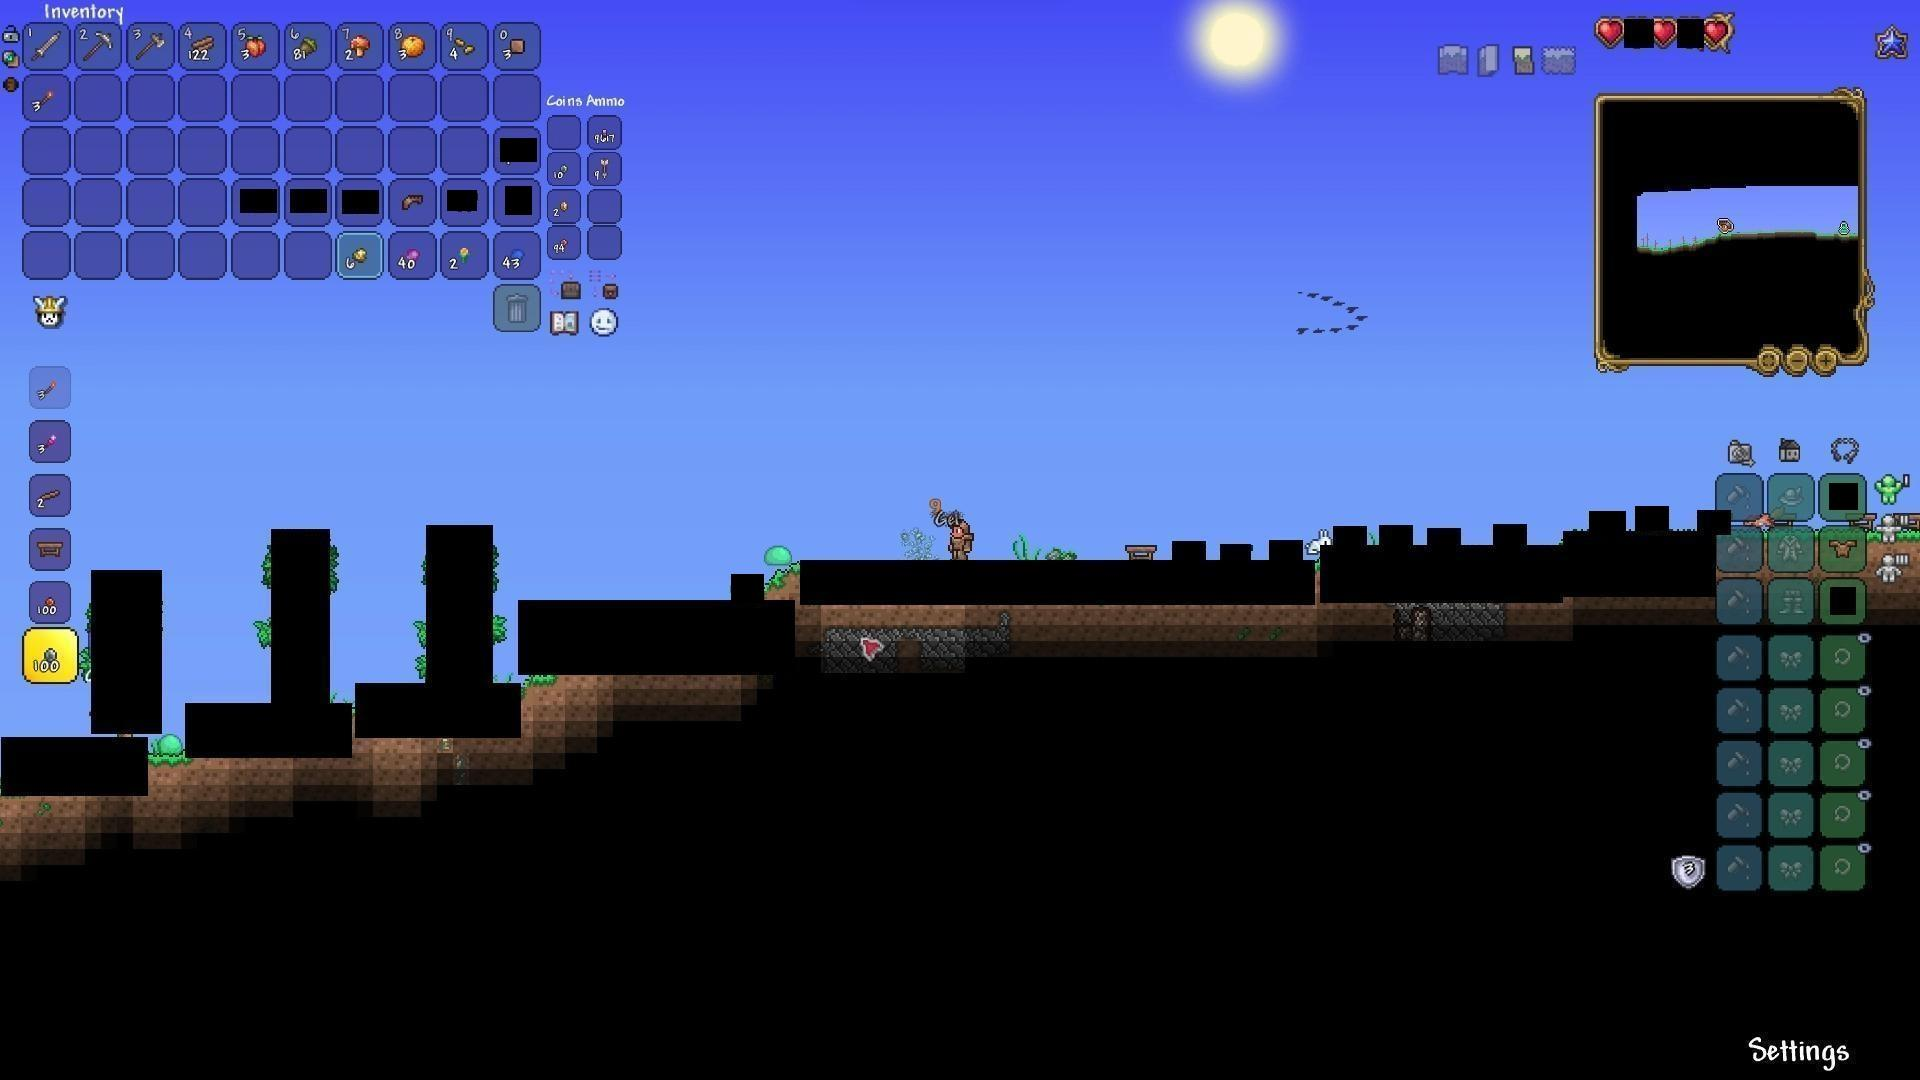breastplate: (1832, 538, 1859, 559)
heart: (1650, 18, 1677, 47), (1598, 16, 1626, 44), (1705, 18, 1730, 45)
helmet: (400, 190, 429, 215)
slime: (764, 541, 795, 571), (156, 731, 187, 758)
wood: (189, 33, 218, 61)
workbench: (33, 535, 66, 560), (1126, 542, 1159, 566)
